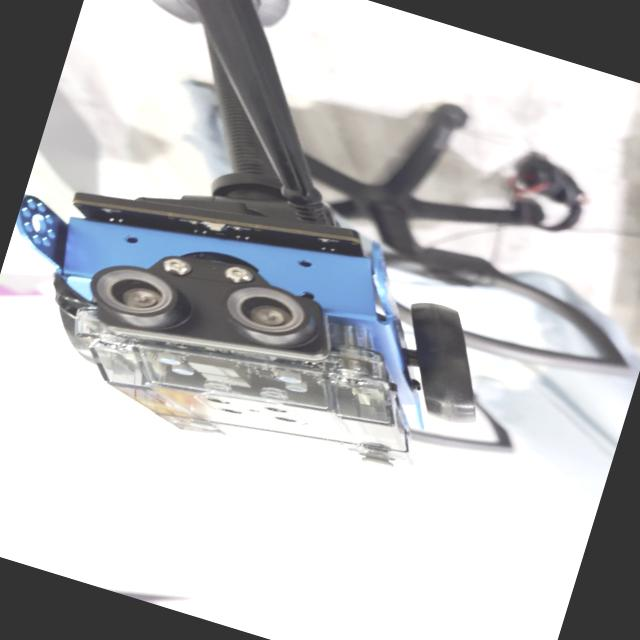mbot-detection: (0, 135, 545, 530)
